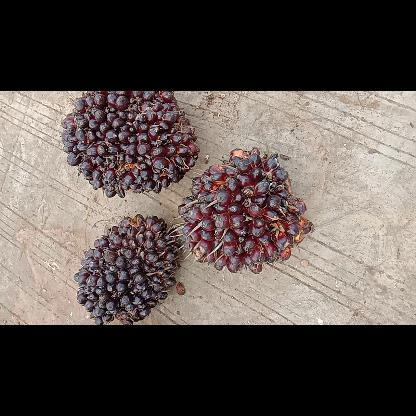TBS mentah: (172, 144, 316, 276), (57, 91, 202, 201), (73, 208, 184, 324)
